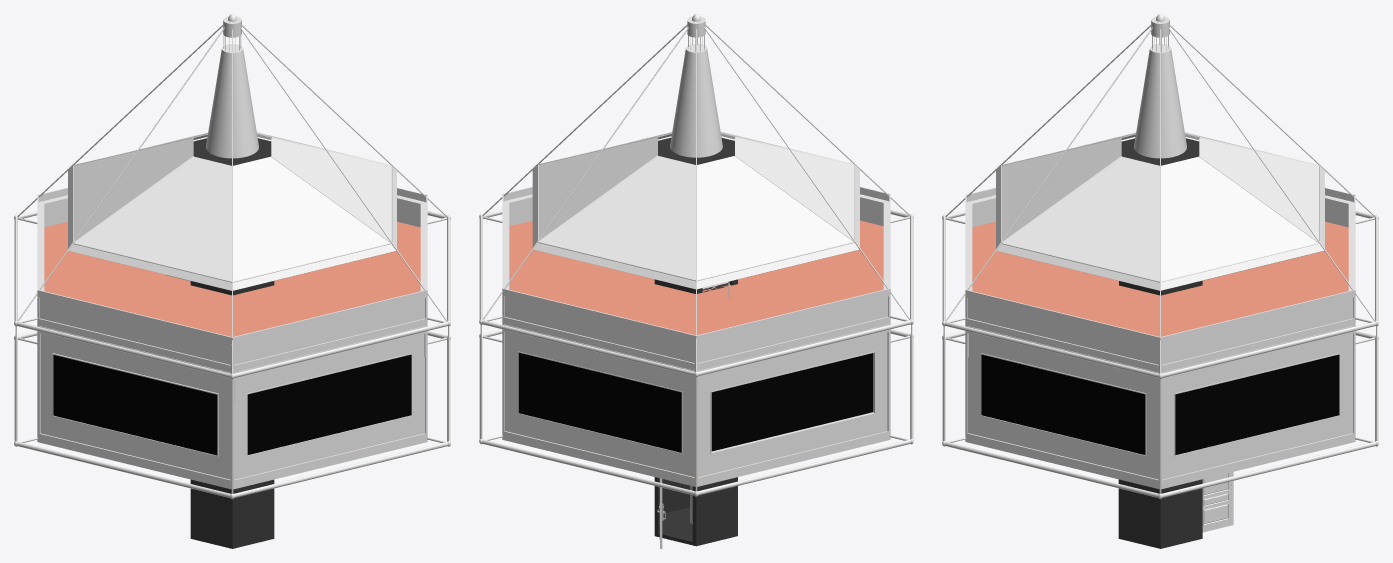
File: hk house.fbx
3 renders of one model, left to right at view 1: azimuth 30°, elevation 25°; view 2: azimuth 150°, elevation 25°; view 3: azimuth 270°, elevation 25°, orthographic.
Visible parts, largest first — view 1: 顶棚, 墙, GLASS, 楼板, railing, 水平, 中心交通筒, 拉索, 竖杆, window frame; view 2: 顶棚, 墙, GLASS, 楼板, railing, 水平, 中心交通筒, 拉索, window frame, 竖杆; view 3: 顶棚, 墙, GLASS, 楼板, railing, 水平, 中心交通筒, 拉索, 竖杆, window frame, DOOR.
Part boxes in pixels (x1=…): 顶棚: x1=67, y1=14, x2=397, y2=290; 墙: x1=38, y1=195, x2=426, y2=479; GLASS: x1=53, y1=354, x2=411, y2=455; 楼板: x1=44, y1=221, x2=420, y2=336; railing: x1=37, y1=187, x2=427, y2=489; 水平: x1=14, y1=211, x2=450, y2=499; 中心交通筒: x1=190, y1=138, x2=274, y2=548; 拉索: x1=17, y1=25, x2=447, y2=373; 竖杆: x1=15, y1=194, x2=449, y2=493; window frame: x1=52, y1=353, x2=412, y2=456; 顶棚: x1=532, y1=14, x2=859, y2=289; 墙: x1=503, y1=194, x2=889, y2=476; GLASS: x1=518, y1=353, x2=872, y2=452; 楼板: x1=509, y1=220, x2=883, y2=334; railing: x1=502, y1=186, x2=890, y2=486; 水平: x1=479, y1=210, x2=913, y2=496; 中心交通筒: x1=654, y1=137, x2=737, y2=546; 拉索: x1=482, y1=24, x2=910, y2=371; window frame: x1=517, y1=351, x2=875, y2=454; 竖杆: x1=480, y1=193, x2=912, y2=491; 顶棚: x1=996, y1=14, x2=1324, y2=290; 墙: x1=966, y1=195, x2=1354, y2=479; GLASS: x1=981, y1=354, x2=1339, y2=455; 楼板: x1=972, y1=221, x2=1348, y2=336; railing: x1=965, y1=187, x2=1355, y2=489; 水平: x1=942, y1=211, x2=1378, y2=499; 中心交通筒: x1=1118, y1=138, x2=1202, y2=548; 拉索: x1=945, y1=25, x2=1375, y2=373; 竖杆: x1=943, y1=194, x2=1377, y2=493; window frame: x1=980, y1=353, x2=1340, y2=456; DOOR: x1=1202, y1=472, x2=1233, y2=532.
Size of the model in its own units: 12.61 by 10.93 by 14.2.
